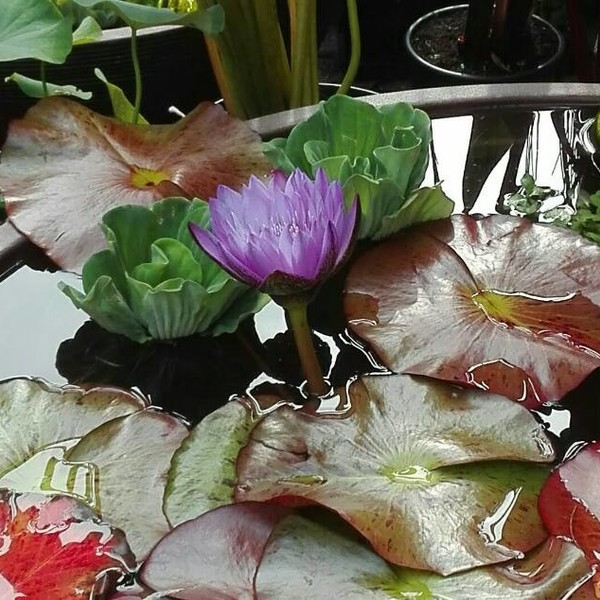obstacle: (75, 83, 454, 350)
